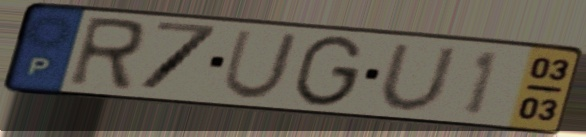1: (463, 48, 504, 118)
7: (139, 19, 223, 98)
G: (288, 33, 368, 110)
R: (63, 14, 150, 95)
U: (218, 28, 303, 103), (376, 42, 461, 114)
